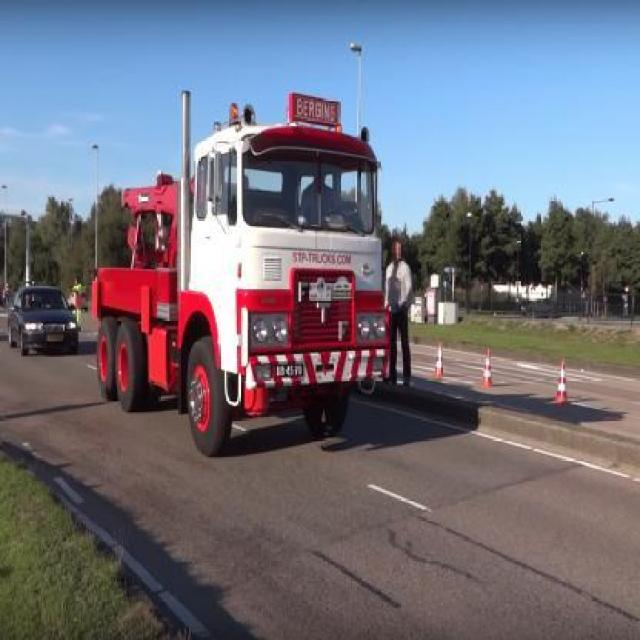Mobile Crane: (92, 91, 388, 449)
